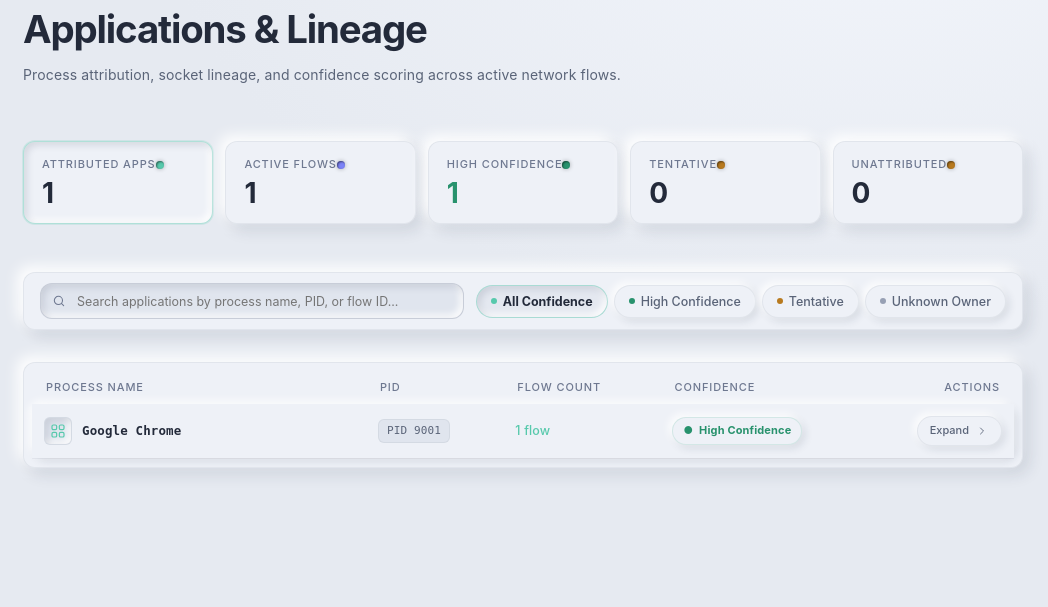
Test: Apps Screen & useAppsController › sanitizes whitespace in aria-controls and row id for processes with spaces in their name
Expected: the text "Google Chrome" is shown, [82,421,181,441]
What coordinates should you click on to do the following:
click the button with aria-label "Expand Google Chrome"
I would click on:
 (959, 431)
Its box is [917,416,1002,446].
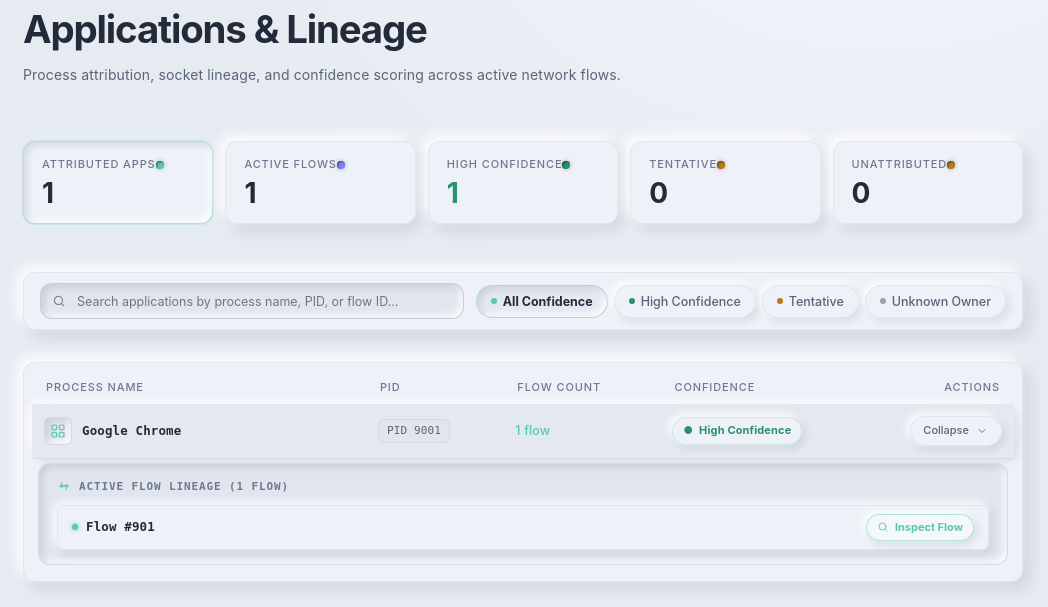
Result: the row with id "flow-lineage-Google-Chrome" is shown at [32,458,1014,573]
